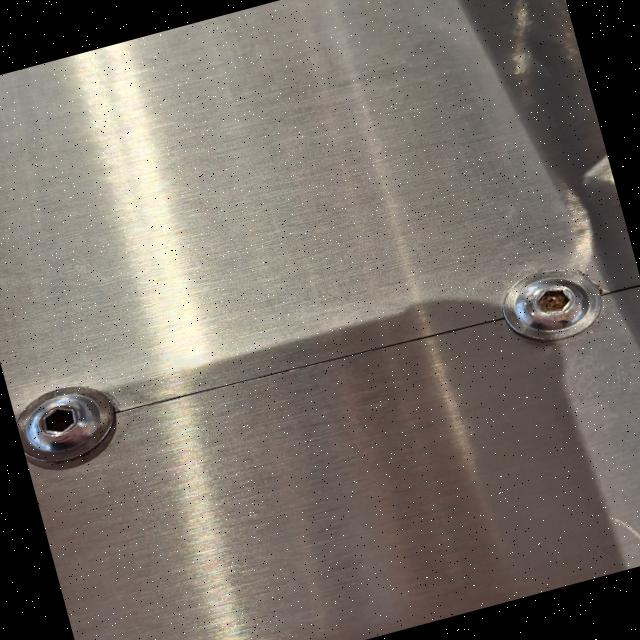Hex Socket Allen: (472, 246, 626, 365), (10, 368, 140, 478)
